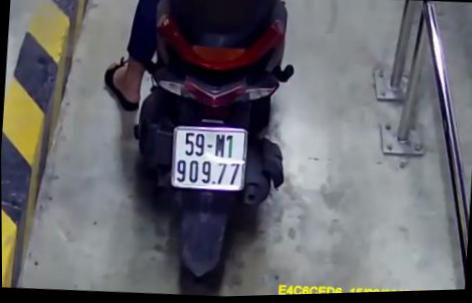LP: (169, 122, 248, 195)
